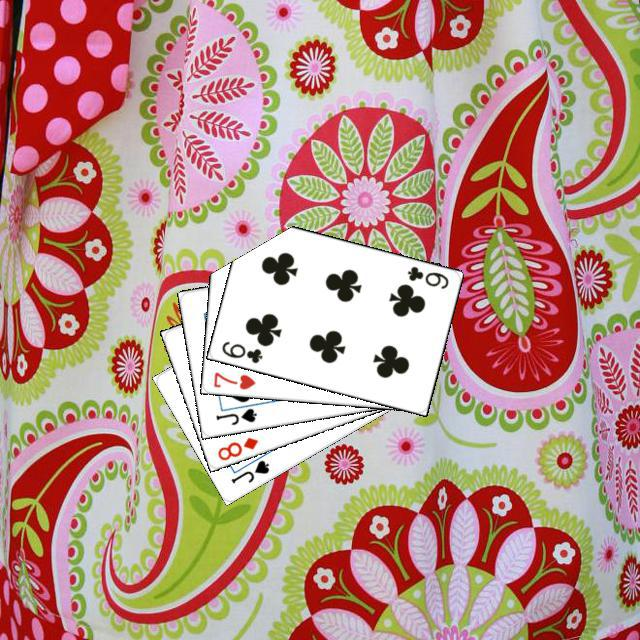6c: (402, 261, 450, 290), (217, 336, 264, 365)
7h: (209, 367, 257, 391)
8d: (212, 432, 260, 462)
Js: (226, 455, 271, 485), (211, 403, 258, 427)
